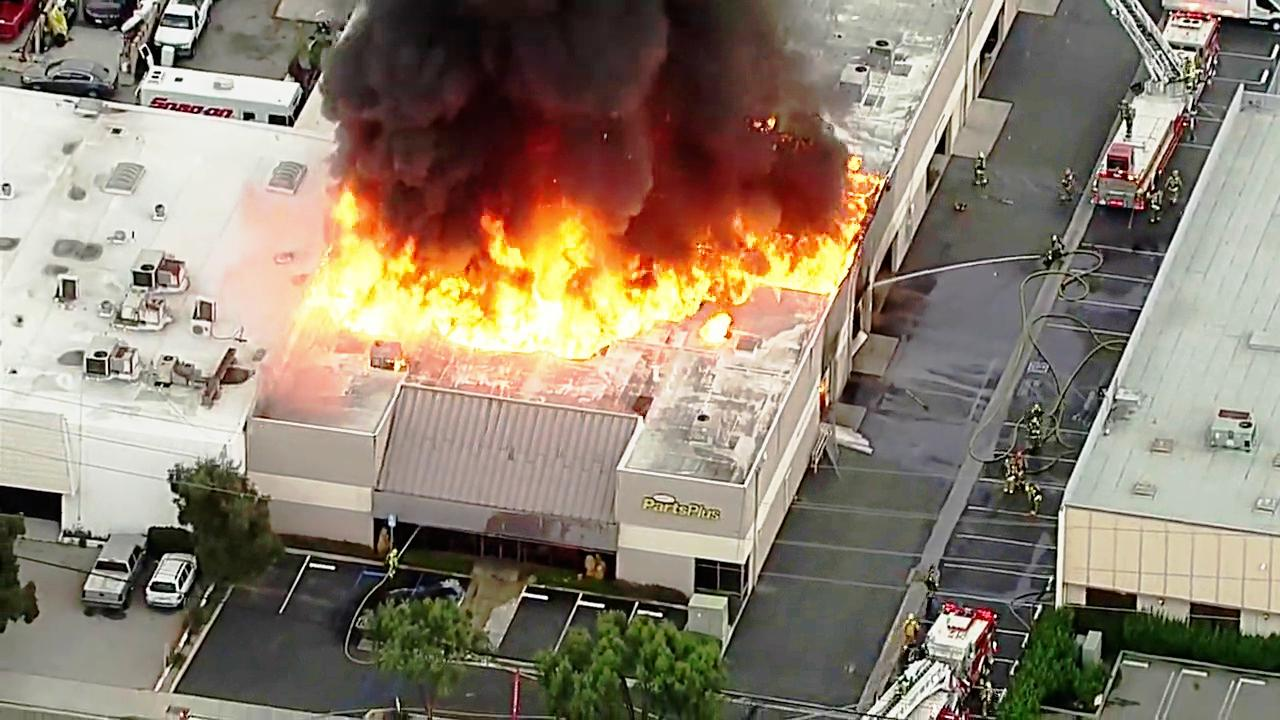fire: (415, 209, 619, 350), (294, 192, 429, 344), (724, 222, 843, 294), (614, 242, 710, 326)
smoke: (304, 0, 815, 193)
